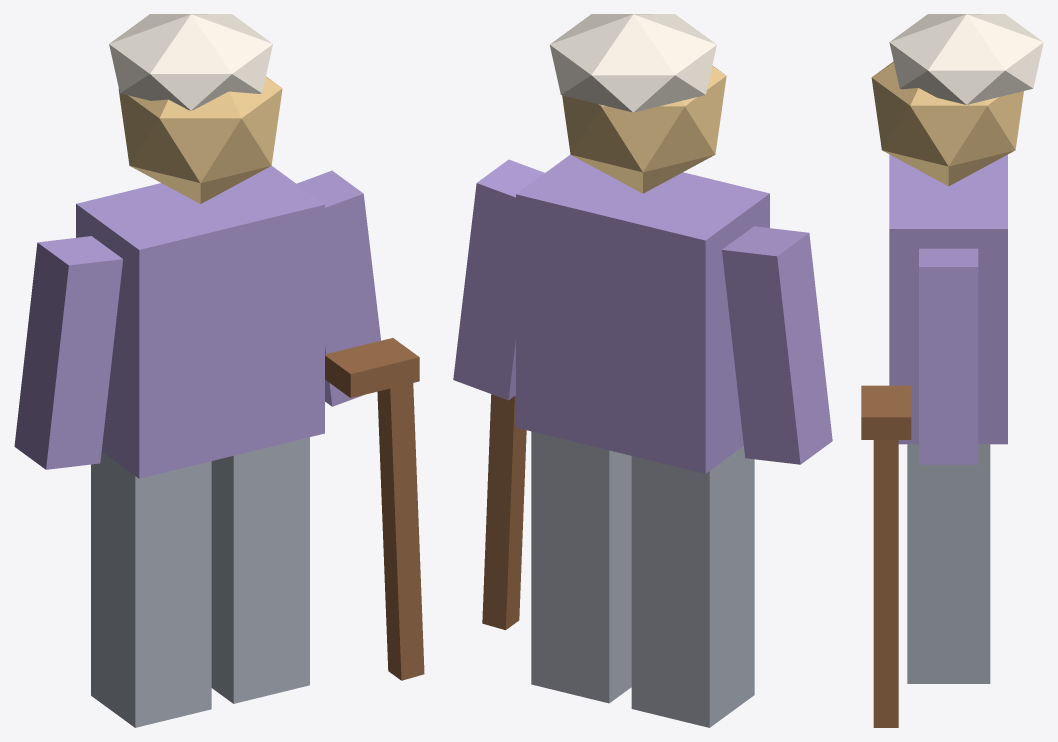
Rendered from people_elderly.glb.
3 views of the same model, side by side, from view 1: azimuth 30°, elevation 25°; view 2: azimuth 150°, elevation 25°; view 3: azimuth 270°, elevation 25° (orthographic). The views are drawn at different scales.
Parts seen in each view (by area): view 1: people_elderly; view 2: people_elderly; view 3: people_elderly.
Part boxes in pixels (<box>): people_elderly: <box>14,14,424,727</box>; people_elderly: <box>453,14,832,727</box>; people_elderly: <box>861,14,1043,727</box>.
Size of the model in its own units: 0.0616 by 0.1112 by 0.0292.
